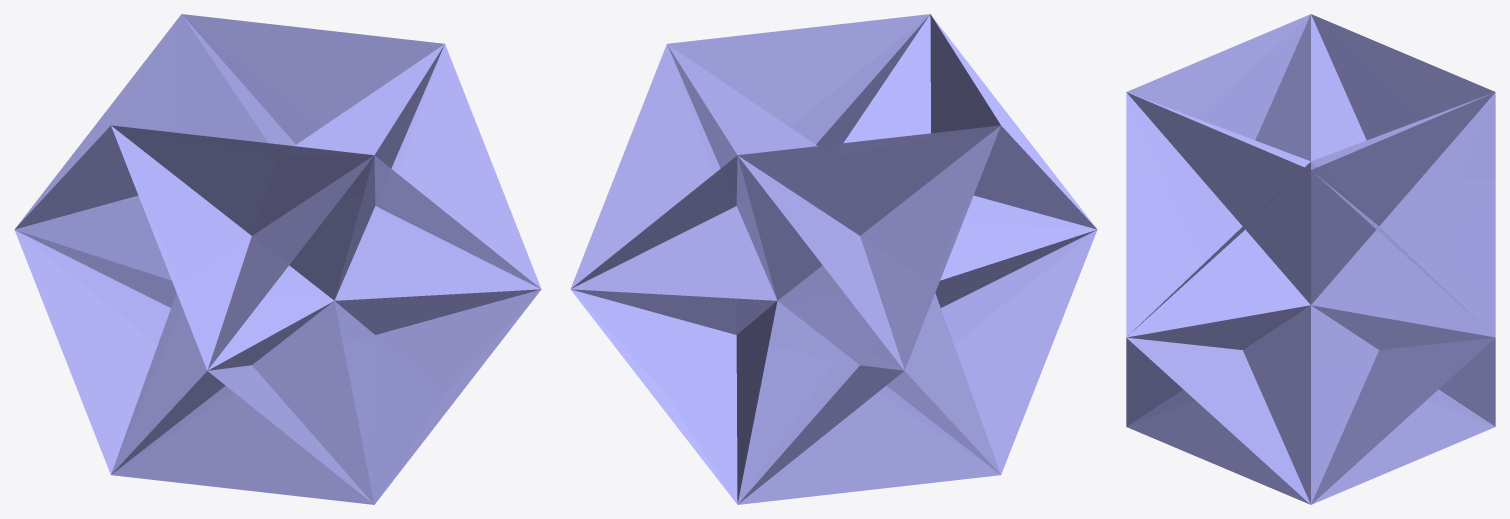
Rendered from GreatRhombihexacron.obj.
3 renders of one model, left to right at view 1: azimuth 30°, elevation 25°; view 2: azimuth 150°, elevation 25°; view 3: azimuth 270°, elevation 25°, orthographic. The views are drawn at different scales.
Bounding box in the file's own units: 2 × 2 × 2.
